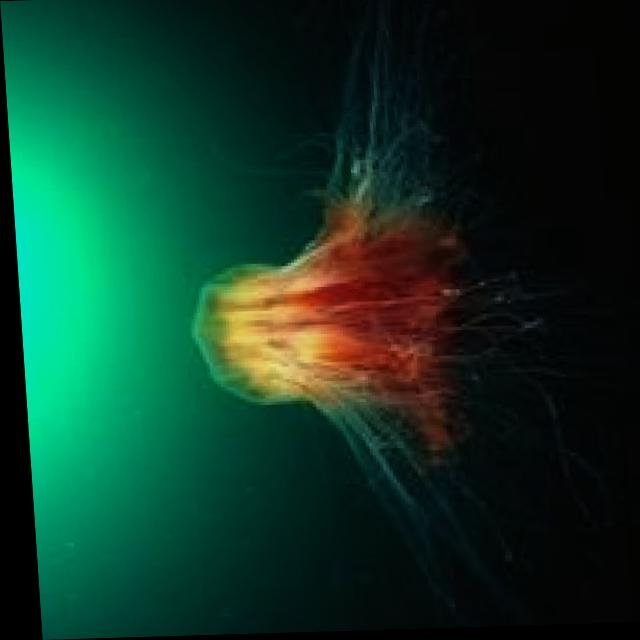Box-jellyfish: (163, 0, 621, 636)
